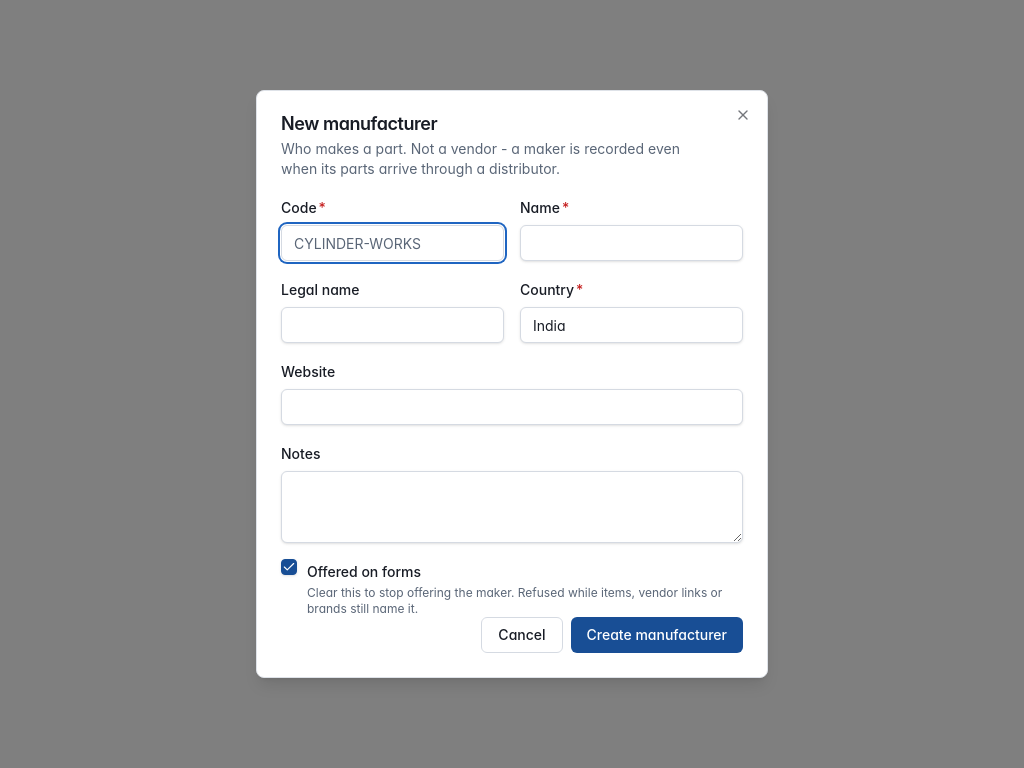
Scenario: creating a manufacturer › refuses a maker with no name before anything reaches the network
In the field labelled "Code": point(392, 243) [281, 225, 504, 261], type "M1"
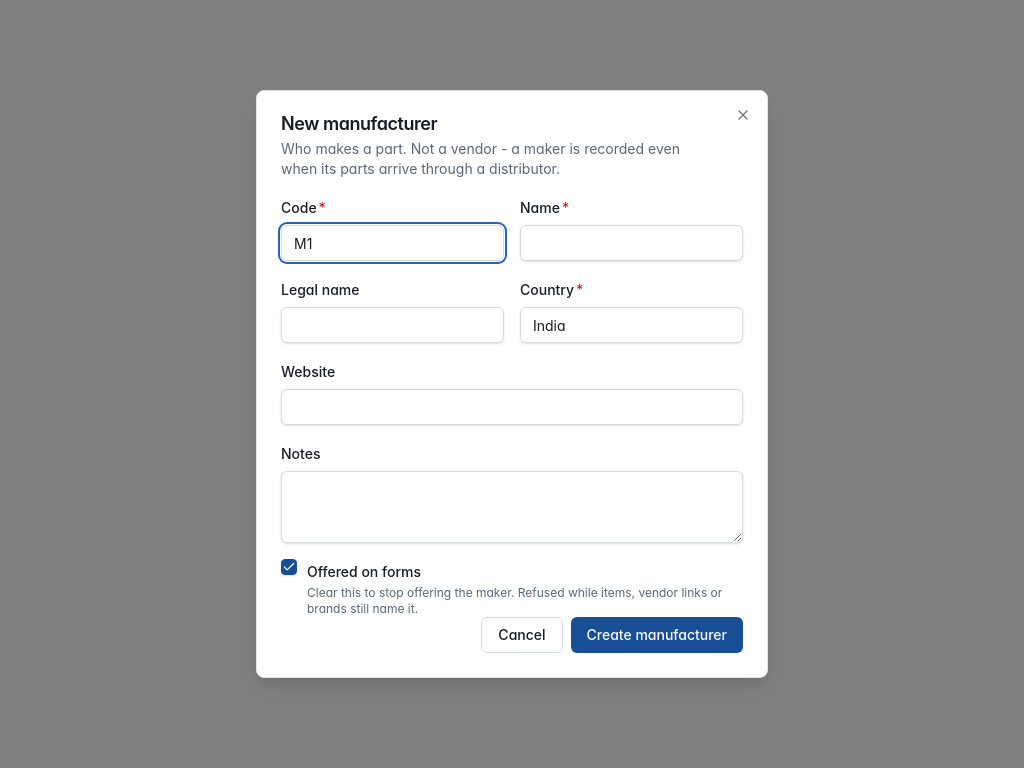
Click the button "Create manufacturer": point(657, 635) [570, 617, 743, 653]
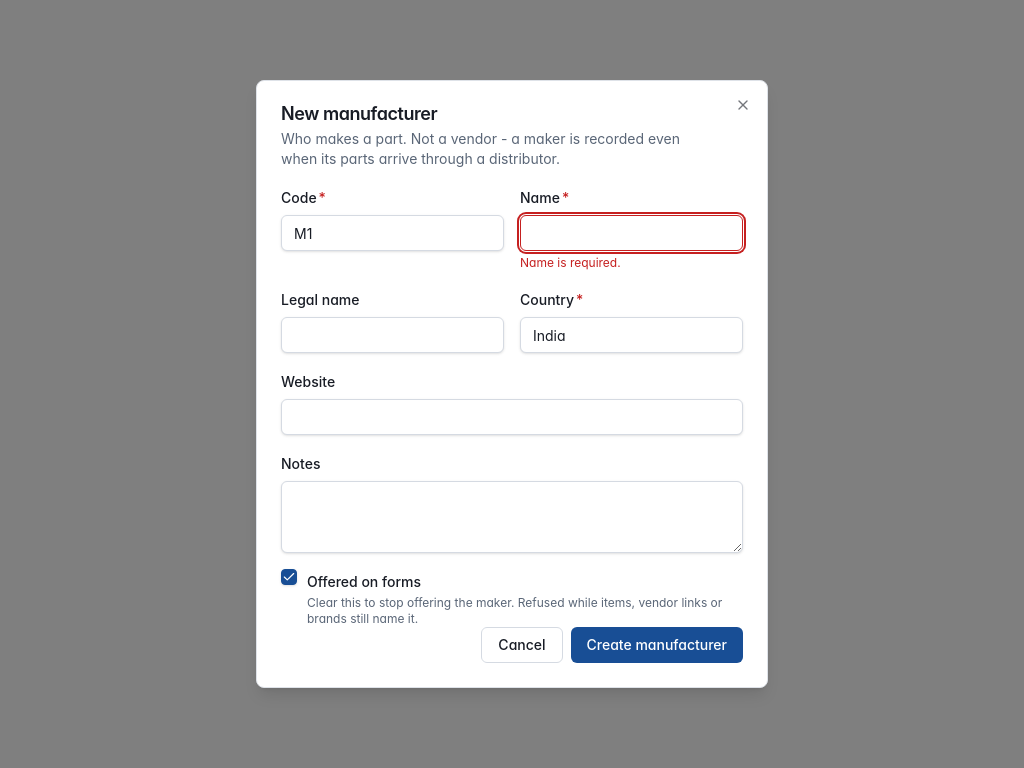
Expected: the text "Name is required." is shown, [520, 255, 621, 270]
